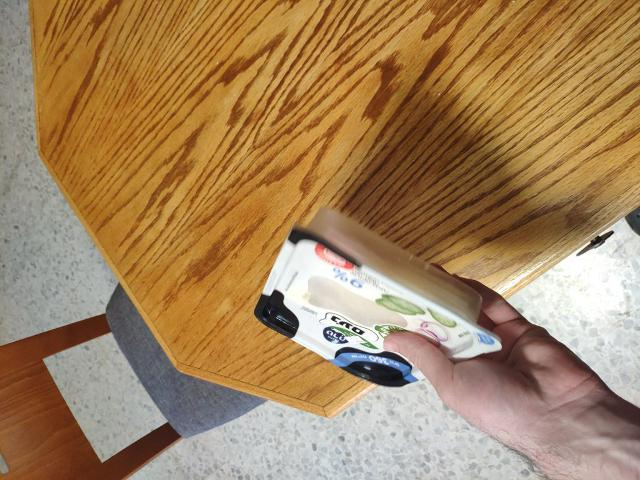cheese: (264, 186, 461, 417)
